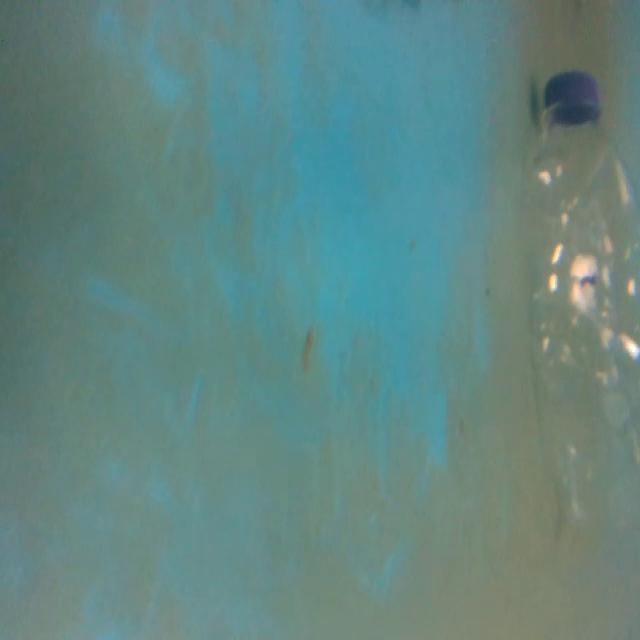plastic bottle: (518, 64, 640, 537)
